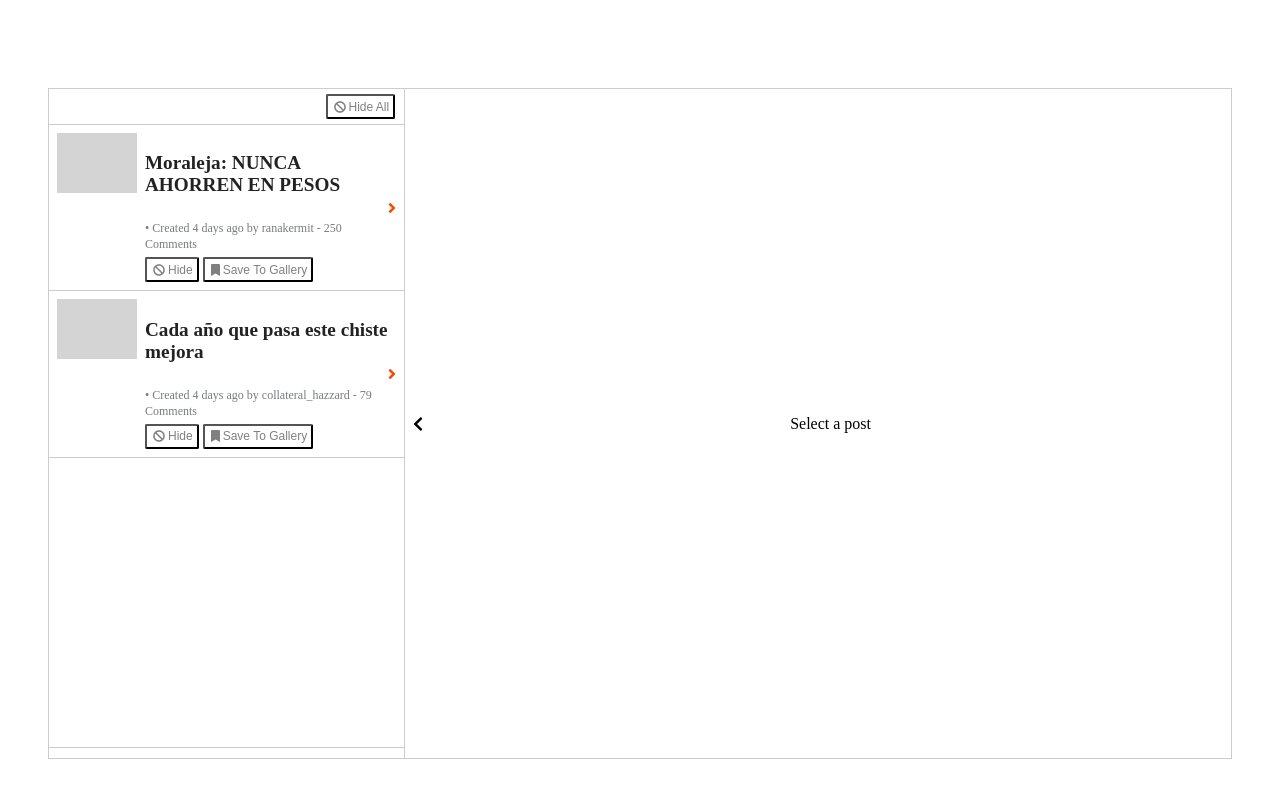
Test: Can remove posts from list
Expected: the number of headings with test id "Post_title" is 2, [145,152,340,195]; [145,319,388,363]
Click the button "Hide" below "Moraleja: NUNCA AHORREN EN PESOS" at (172, 270), box [145,257,199,282]
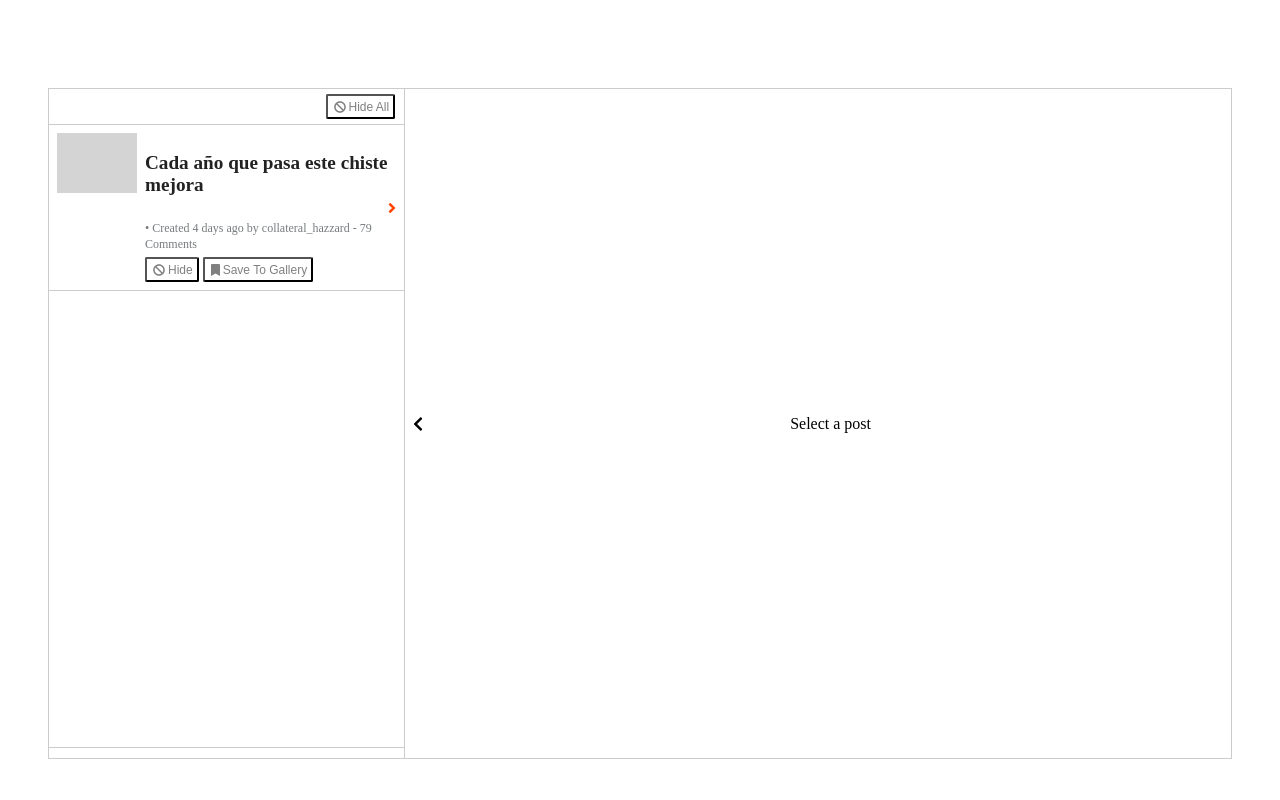
Now the number of headings with test id "Post_title" is 1, box [145,152,388,196]
